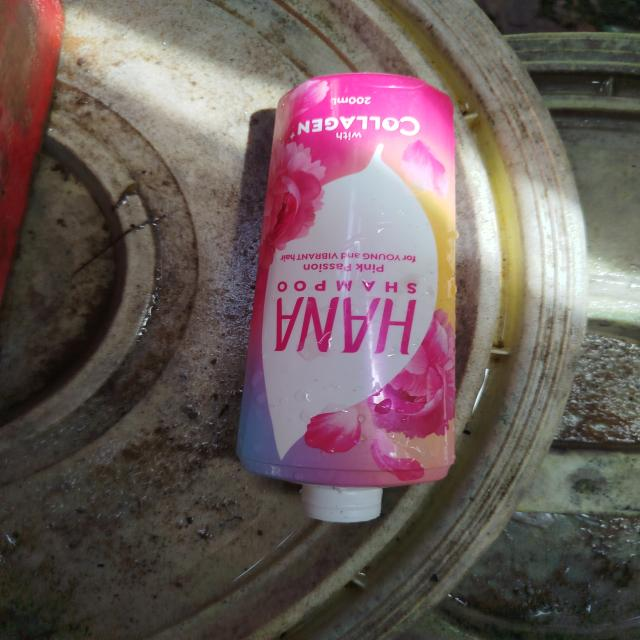plastic: (222, 61, 492, 543)
